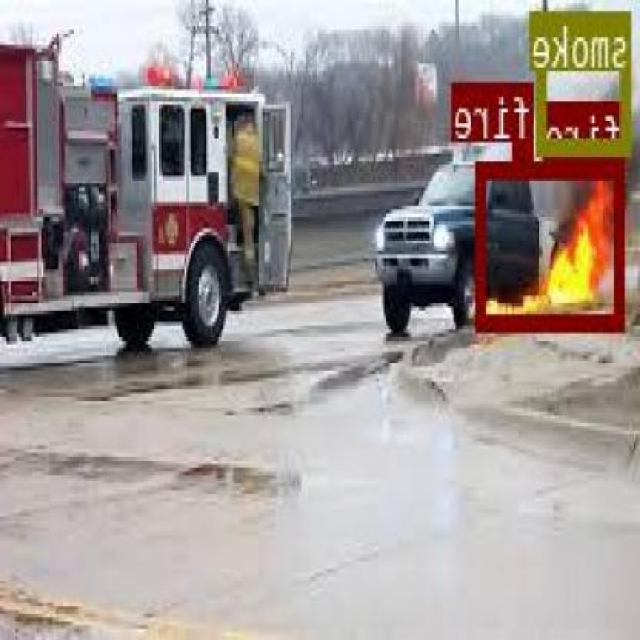Fire: (477, 161, 626, 327), (514, 142, 534, 176)
Smoke: (539, 8, 632, 150)
